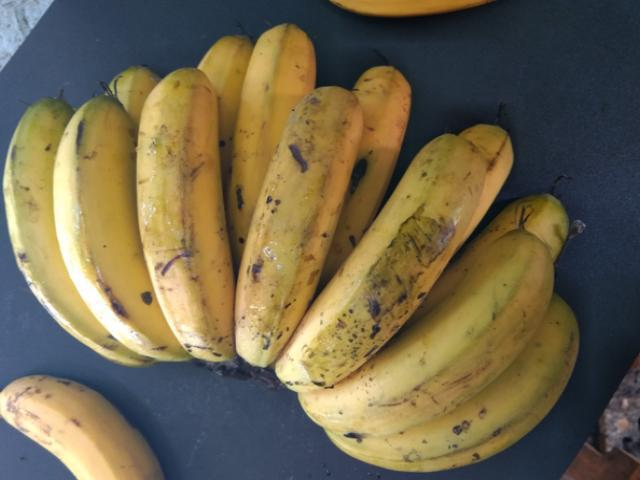ripe: (234, 134, 485, 415), (279, 239, 568, 420), (142, 65, 269, 400), (52, 89, 205, 364), (223, 91, 361, 393), (8, 83, 92, 343), (7, 371, 146, 479)
